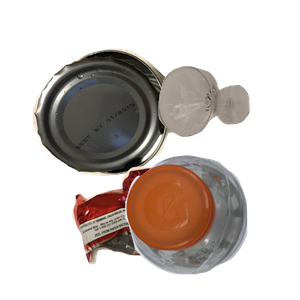glass: (156, 64, 300, 194)
metal: (30, 46, 205, 215)
plastic: (123, 152, 300, 300)
trash: (70, 162, 257, 300)
